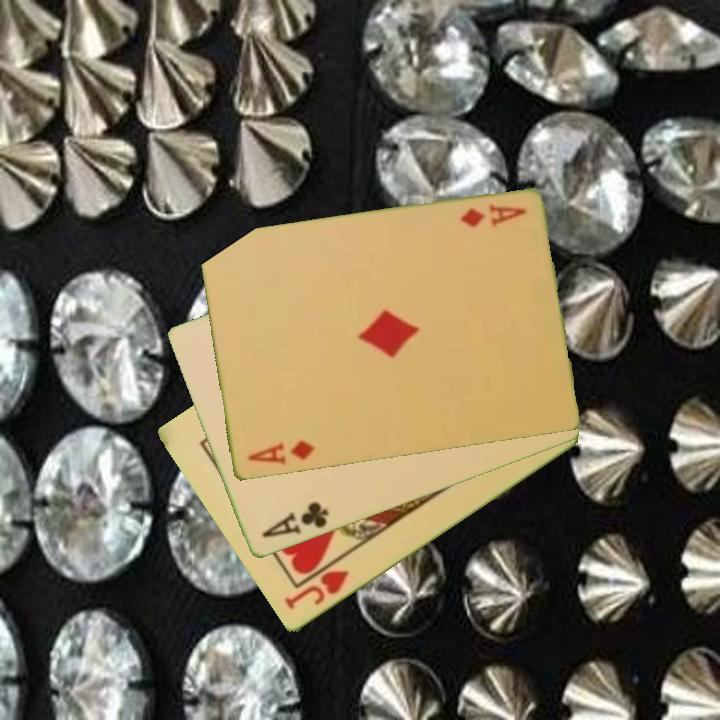Ac: (258, 498, 332, 541)
Ad: (244, 437, 318, 468), (456, 202, 529, 231)
Jh: (281, 567, 352, 613)
